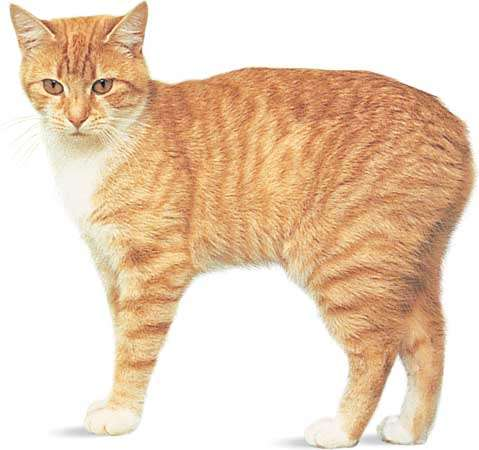cat: (9, 3, 477, 450)
